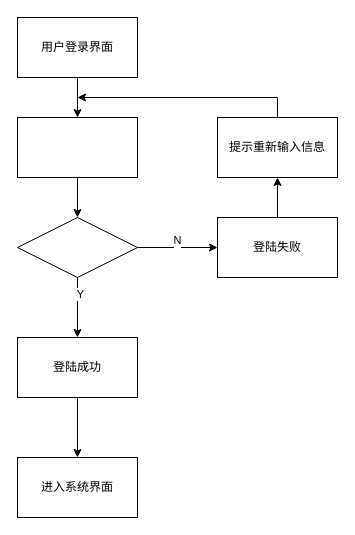
The diagram is 355 pixels wide and 535 high, and some of its shapes have lost their labels. The centre of each missing label's shape, as x and y in pixels:
"信息是否输入正确" goes at pixel 77 247.
"输入登录信息" goes at pixel 77 147.
